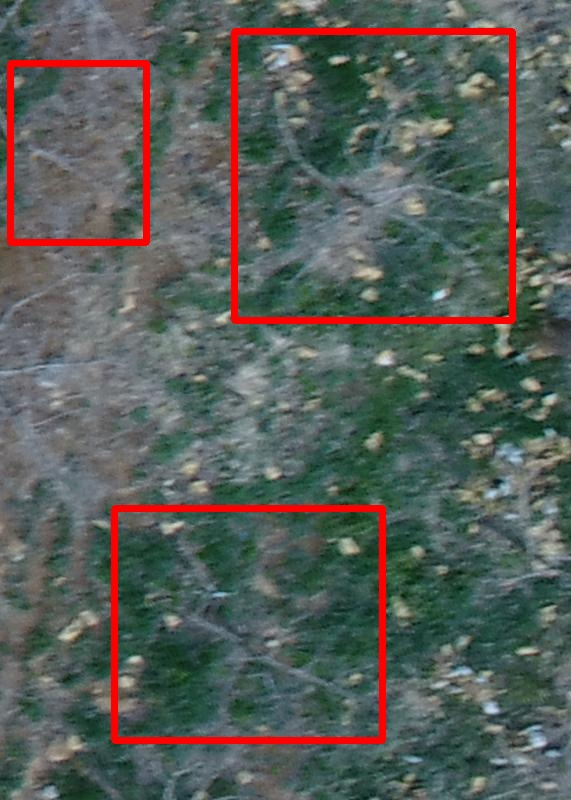apple: (234, 31, 512, 320), (114, 508, 382, 740), (10, 63, 146, 242)
